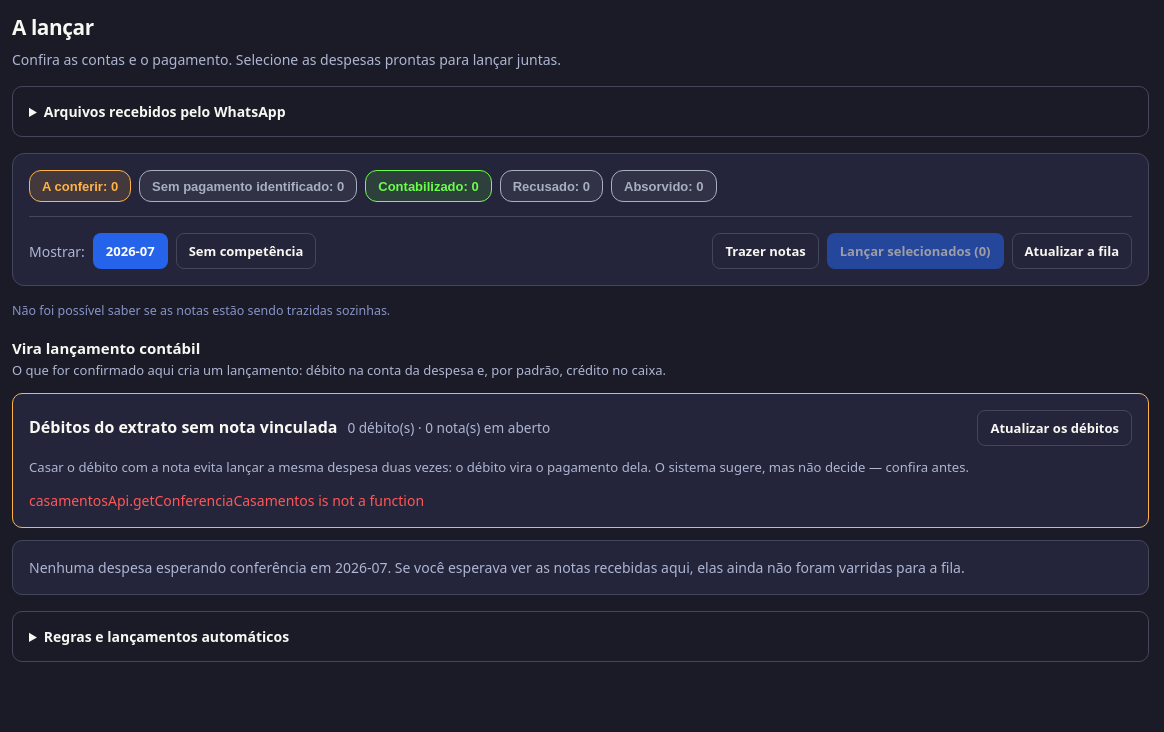
it: ⚠⚠ O SELO DE CONTAGEM É PORTA, não só número › ⚠⚠ vazio COM filtro diz outra coisa — e oferece a saída
The width and height of the screenshot is (1164, 732).
Click the button "Recusado: 0".
click(551, 186)  # box [500,170,603,202]
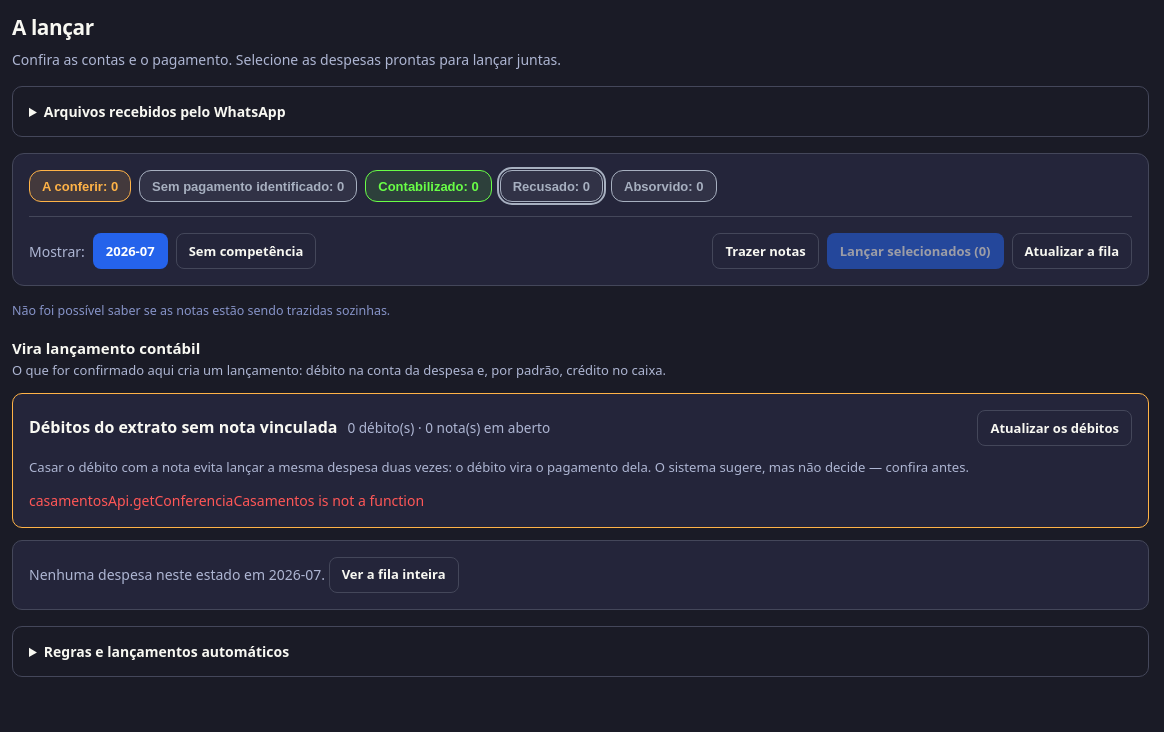
Now the text "Nenhuma despesa neste estado em 2026-07. Ver a fila inteira" is shown, box [12,540,1149,610]
Now the button "Ver a fila inteira" is shown, box [329,557,459,593]
